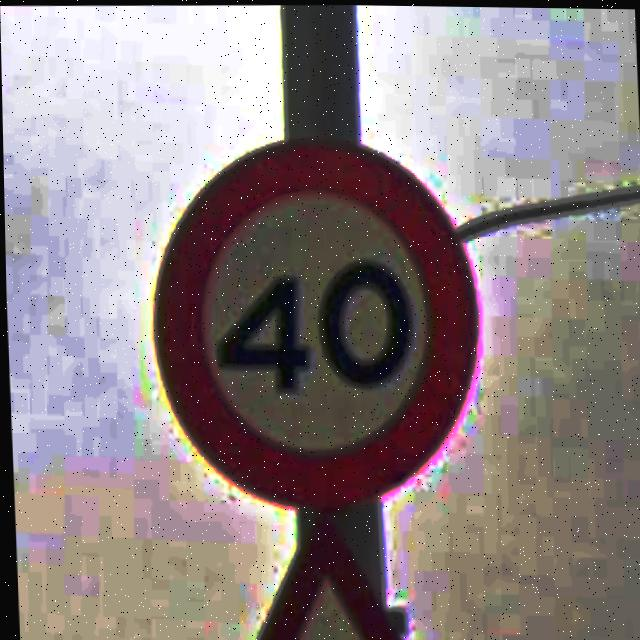max40: (144, 128, 483, 513)
